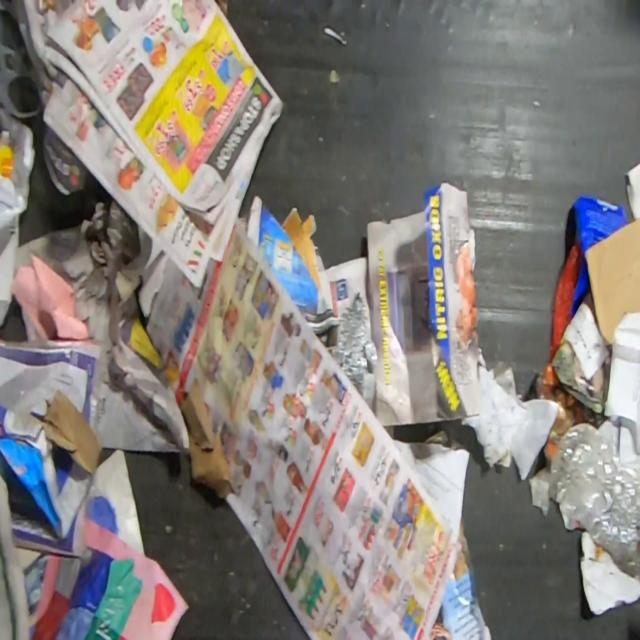cardboard: (0, 388, 105, 540), (582, 217, 640, 346), (179, 374, 235, 502), (280, 207, 326, 300)
metal: (330, 290, 378, 396)
rigid_plastic: (549, 420, 640, 580)
soft_plastic: (0, 9, 43, 118)
